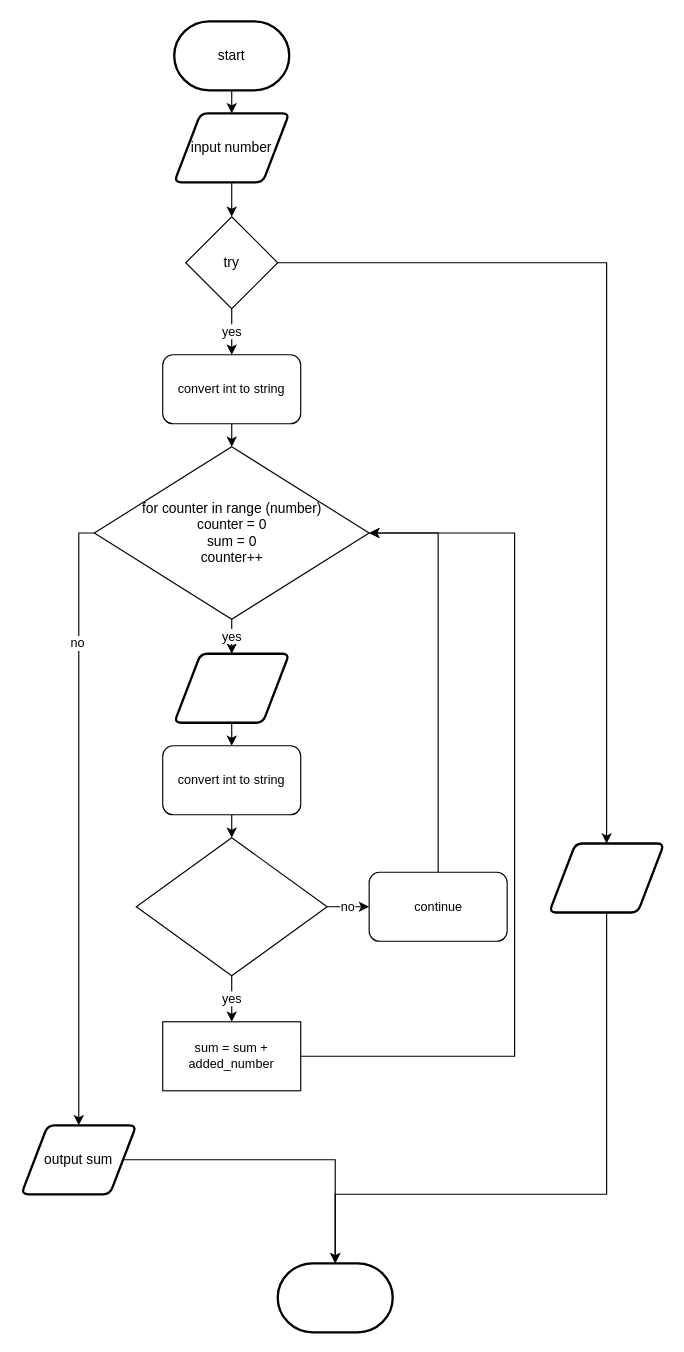
Image size: 684x1352. Some labels were removed from this diagram. Here are the shapes that lost their labels. From the top down, the box of each, then its label:
(172, 652, 290, 723): input added number
(547, 842, 665, 913): not a number
(135, 837, 327, 976): added_number < 0
(276, 1262, 393, 1333): end
